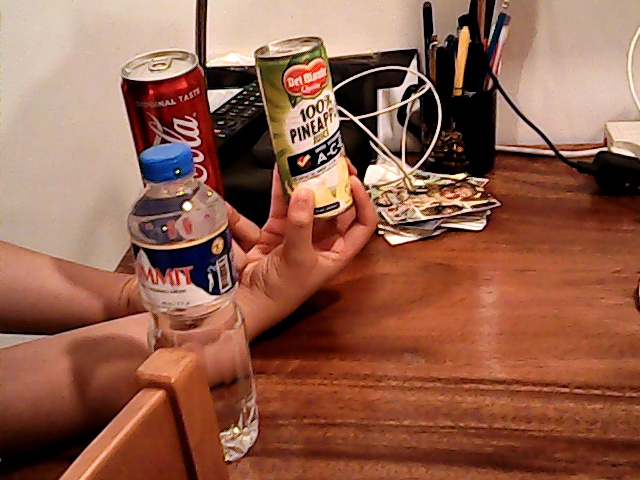Cola: (122, 54, 221, 160)
Pine Juice: (252, 36, 348, 200)
Summit Water: (124, 157, 258, 431)
